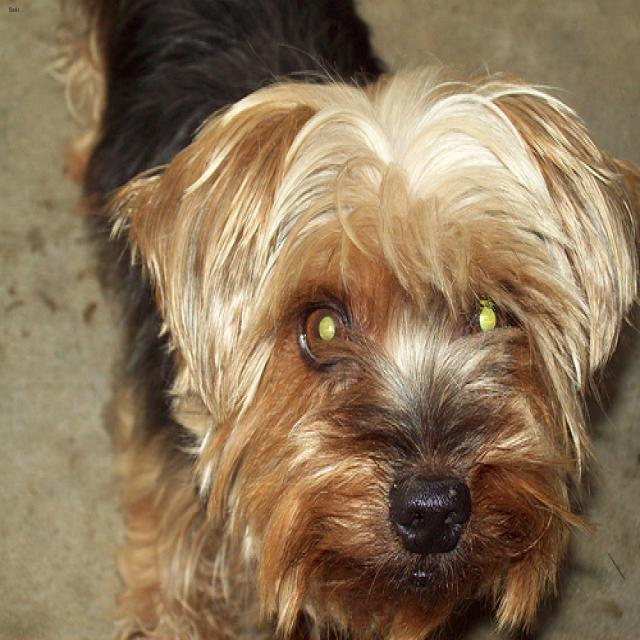dog-yorkshire_terrier: (37, 2, 637, 637)
